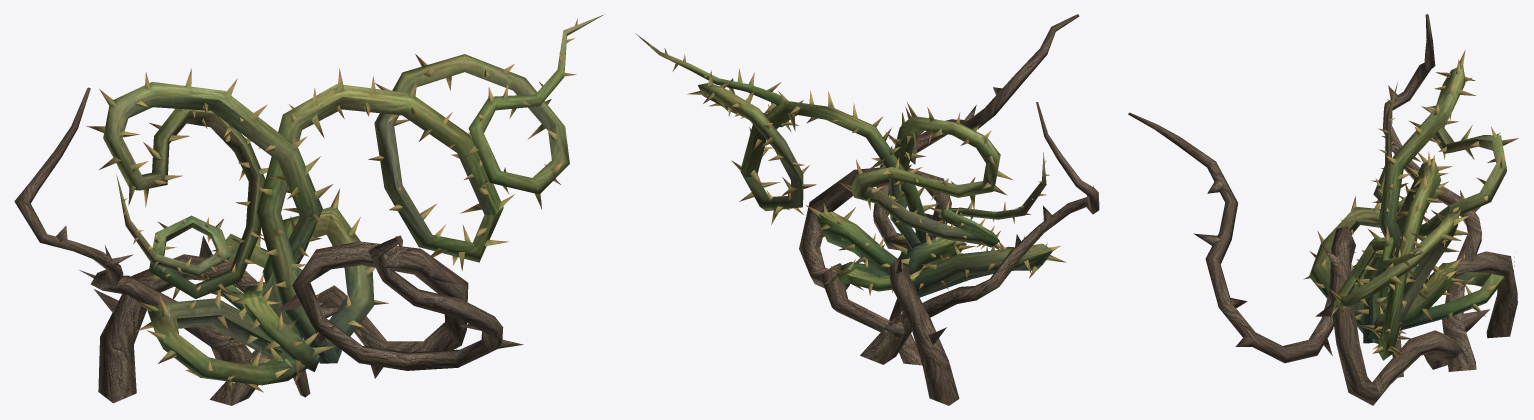
The model's file is teng1.fbx.
3 renders of one model, left to right at view 1: azimuth 30°, elevation 25°; view 2: azimuth 150°, elevation 25°; view 3: azimuth 270°, elevation 25°, orthographic. The views are drawn at different scales.
Parts seen in each view (by area): view 1: teng1, teng2; view 2: teng1, teng2; view 3: teng1, teng2.
Boxes of the visible parts, bbox=[...] form: teng1: bbox=[86, 14, 604, 394]; teng2: bbox=[14, 87, 523, 405]; teng1: bbox=[635, 33, 1066, 297]; teng2: bbox=[799, 14, 1099, 405]; teng1: bbox=[1303, 50, 1518, 360]; teng2: bbox=[1128, 14, 1517, 405].
Size of the model in its own units: 970 by 566 by 686.
2 materials, 2 textured.
